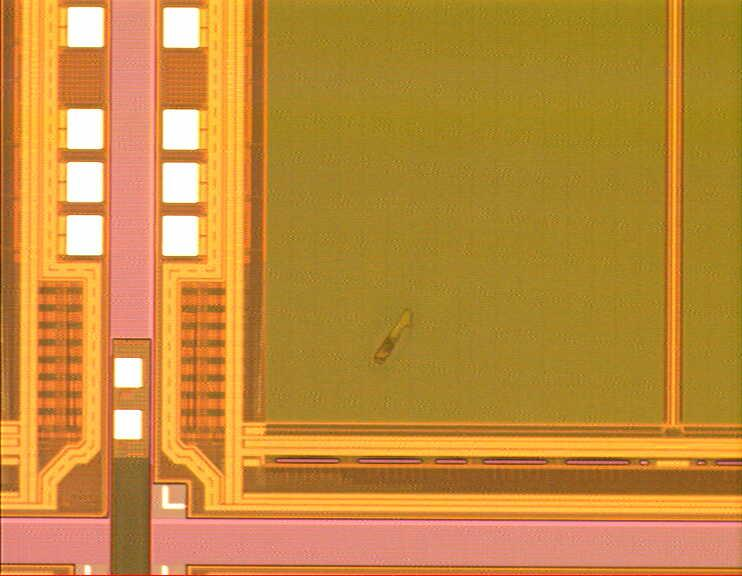PARTICLE: (372, 304, 425, 370)
